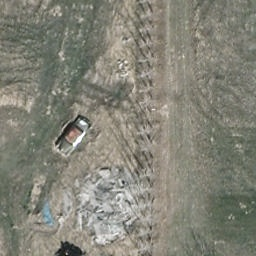car: (54, 115, 97, 156)
